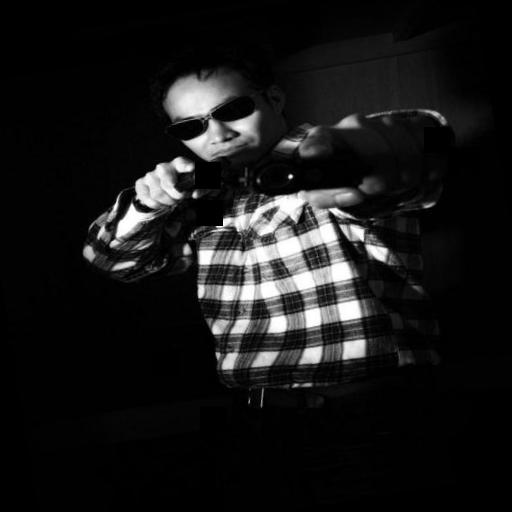Handgun: (234, 137, 370, 206), (160, 148, 233, 198)
